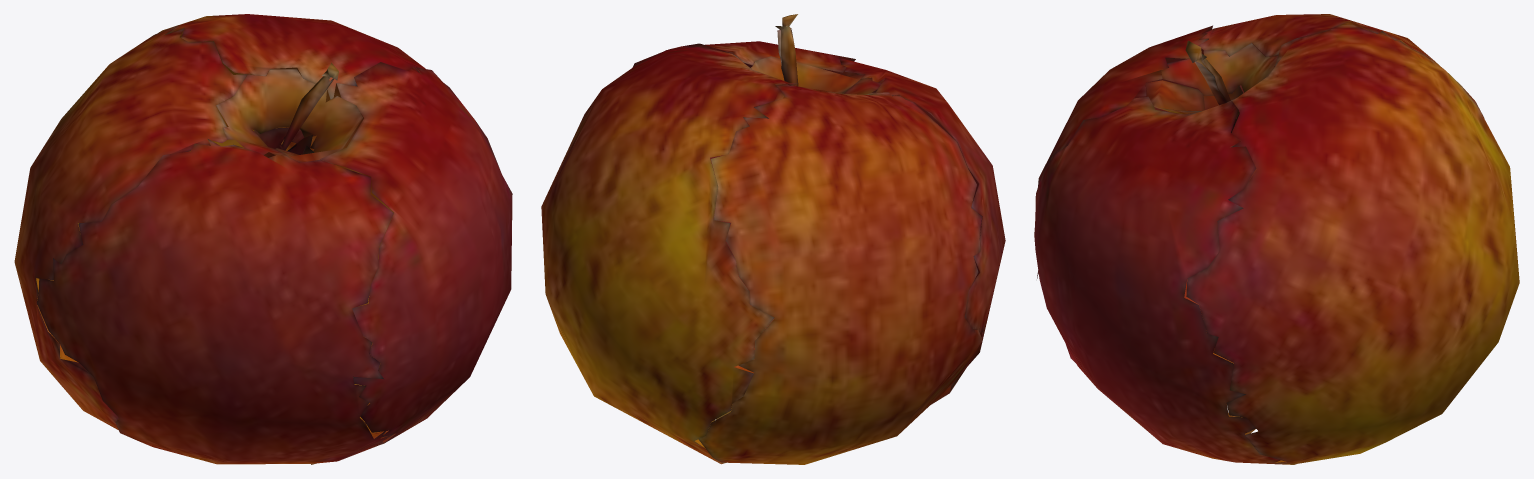
The model's file is food_apple_01.glb.
3 views of the same model, side by side, from view 1: azimuth 30°, elevation 25°; view 2: azimuth 150°, elevation 25°; view 3: azimuth 270°, elevation 25° (orthographic). The views are drawn at different scales.
Visible parts, largest first — view 1: food_apple_01; view 2: food_apple_01; view 3: food_apple_01.
Part boxes in pixels (box(x1,y1,x2,y2)): food_apple_01: box(14, 14, 512, 464); food_apple_01: box(541, 14, 1005, 464); food_apple_01: box(1034, 14, 1519, 464).
Size of the model in its own units: 0.0979 by 0.0852 by 0.0959.
1 material, 1 textured.
